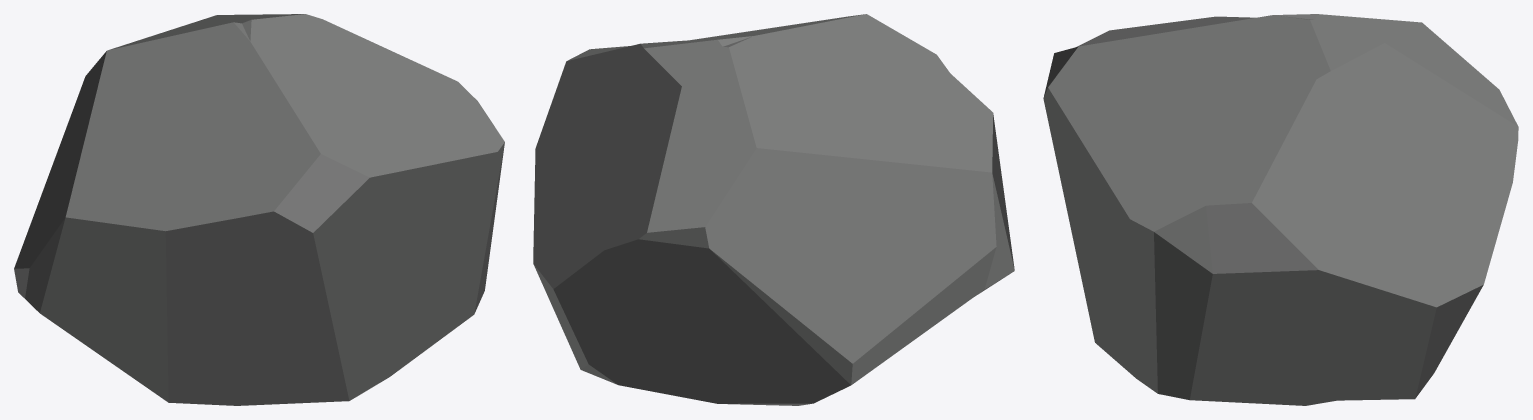
Rendered from stone2.fbx.
3 views of the same model, side by side, from view 1: azimuth 30°, elevation 25°; view 2: azimuth 150°, elevation 25°; view 3: azimuth 270°, elevation 25° (orthographic). The views are drawn at different scales.
Visible parts, largest first — view 1: stone_2; view 2: stone_2; view 3: stone_2.
Boxes of the visible parts, bbox=[...] form: stone_2: bbox=[14, 14, 504, 405]; stone_2: bbox=[533, 14, 1014, 405]; stone_2: bbox=[1043, 14, 1518, 405].
Size of the model in its own units: 247 by 169 by 212.
